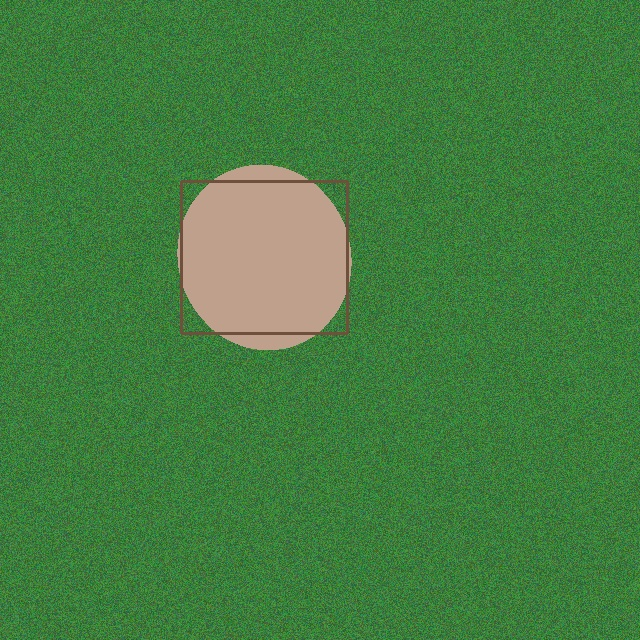corn borer: (171, 171, 357, 343)
